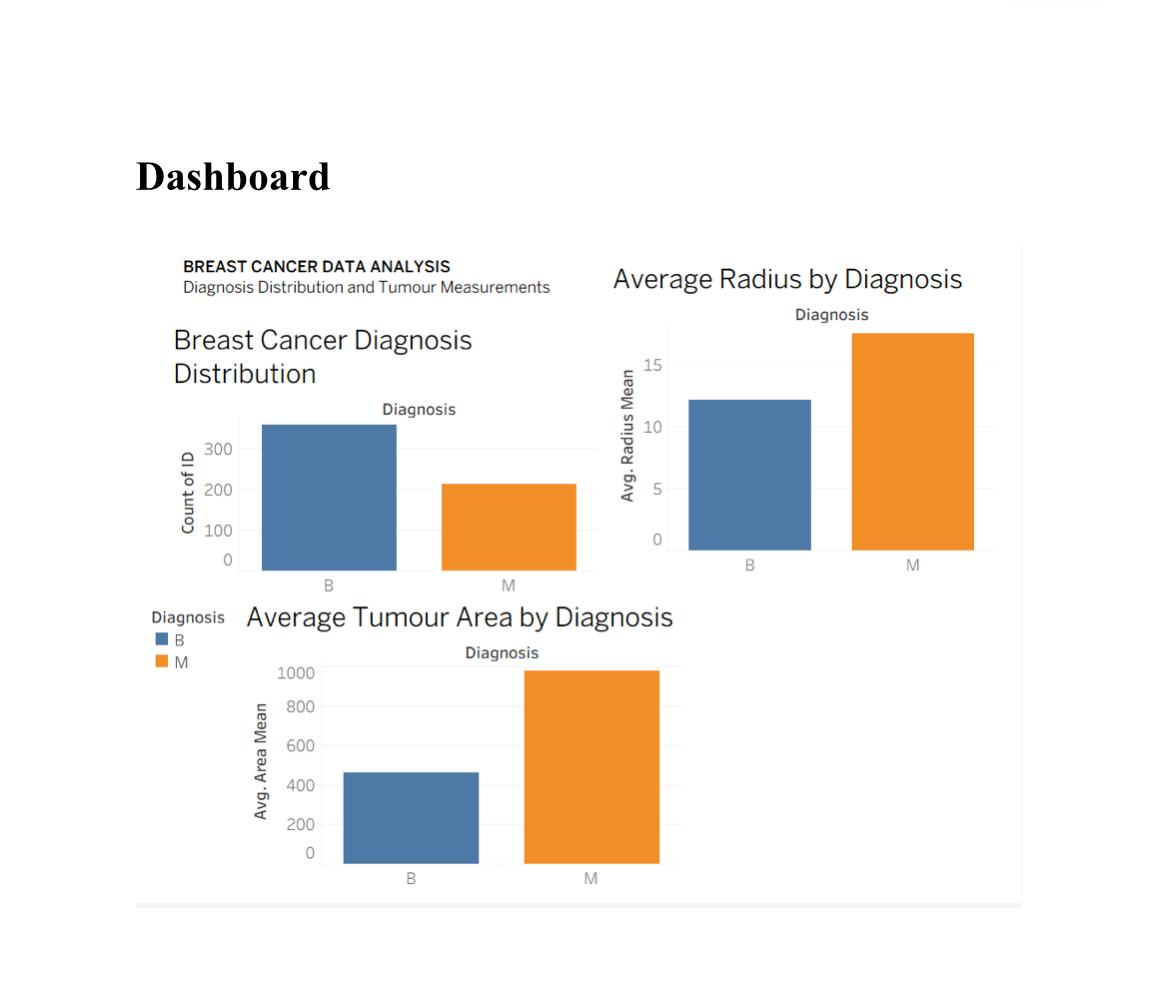

Layout of this report page (visuals, bound fields, positions):
{"tool":"tableau","page":{"name":"Dashboard 1","canvas":[1000,800],"ordinal":0},"visuals":[{"type":"text","box":[50,50,712,88]},{"type":"worksheet","title":"Sheet 2","mark":"Bar","rows":["Radius_Mean"],"cols":["Diagnosis"],"box":[535,72,435,359]},{"type":"worksheet","title":"Sheet 1","mark":"Bar","rows":["ID"],"cols":["Diagnosis"],"box":[39,141,484,313]},{"type":"worksheet","title":"Sheet 3","mark":"Bar","rows":["Area_Mean"],"cols":["Diagnosis"],"box":[121,454,496,331]},{"type":"legend","title":"Sheet 1","param":"[federated.0zwzobj01q1t3918hldux0jb1pgl].[none:Diagnosis:nk]","box":[18,464,140,76]}]}

Visuals, with their boxes on the page's 1000x800 design canvas (x1, y1, x2, y2). These are canvas units, not pixel positions in the 1170x1001 screenshot, which may show the page scaled, cropped or inside an application window:
text: {"x1": 50, "y1": 50, "x2": 762, "y2": 138}
"Sheet 2" worksheet (Bar marks): {"x1": 535, "y1": 72, "x2": 970, "y2": 431}
"Sheet 1" worksheet (Bar marks): {"x1": 39, "y1": 141, "x2": 523, "y2": 454}
"Sheet 3" worksheet (Bar marks): {"x1": 121, "y1": 454, "x2": 617, "y2": 785}
"Sheet 1" legend: {"x1": 18, "y1": 464, "x2": 158, "y2": 540}
